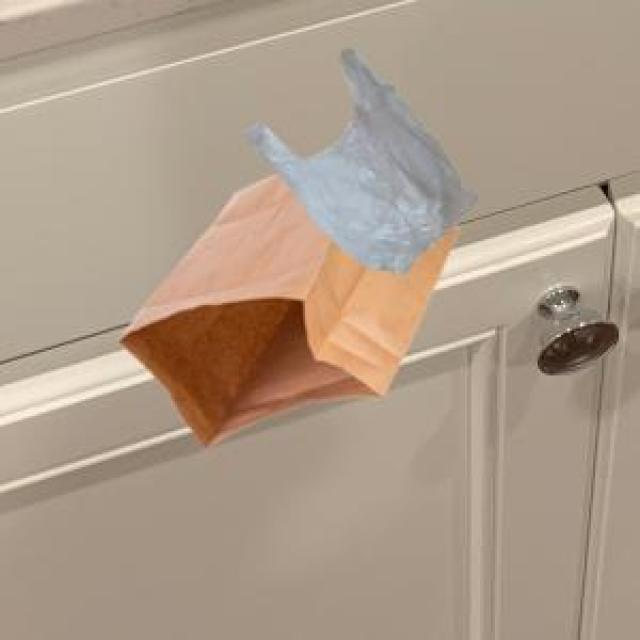paper: (115, 171, 452, 444)
